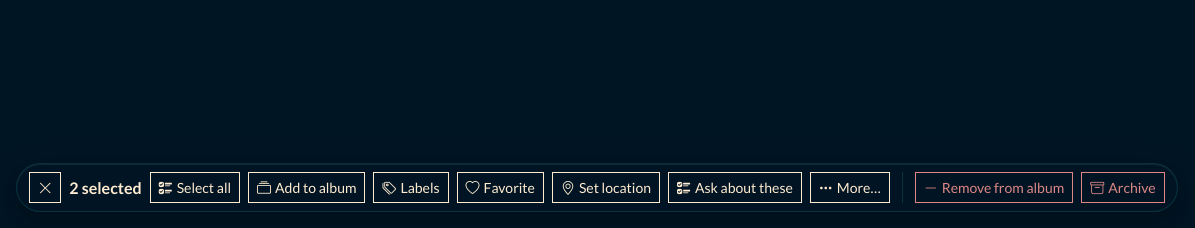
Test: BatchActionBar › joins a page's own actions onto the same bar, honouring their disabled state
This screenshot has width=1195, height=228.
expect the button "Add to album" is shown: met, box [248,172,366,203]
Step 1. Click the button "Remove from album" → (994, 188), box [915,172,1073,203]
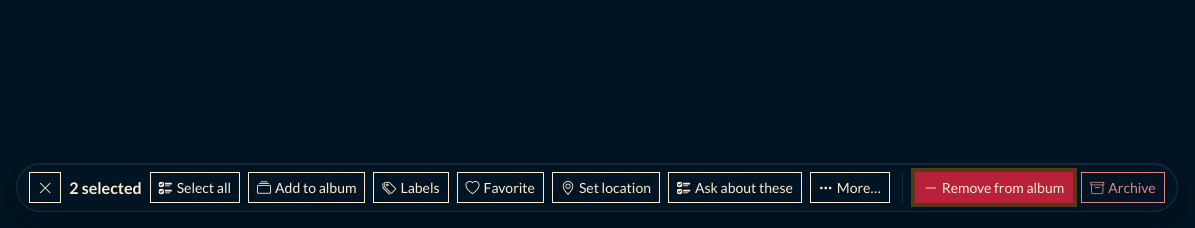
expect the button "Set as cover" is not shown: met
Step 2. Click the button "More…" → (850, 188), box [810,172,890,203]
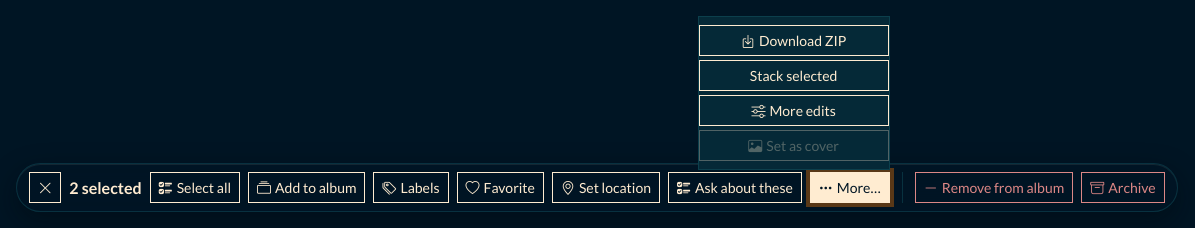
expect the button "Set as cover" is disabled: met, box [699,130,889,161]
